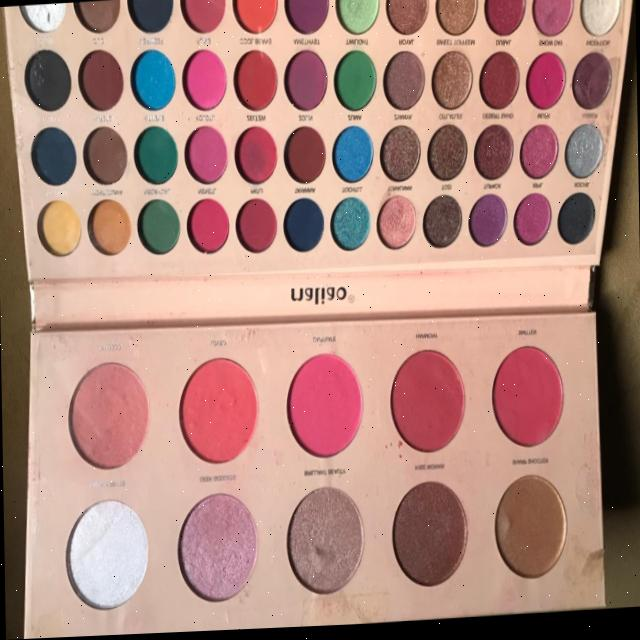eye shade: (0, 0, 639, 318)
highlighter: (33, 317, 575, 623)
